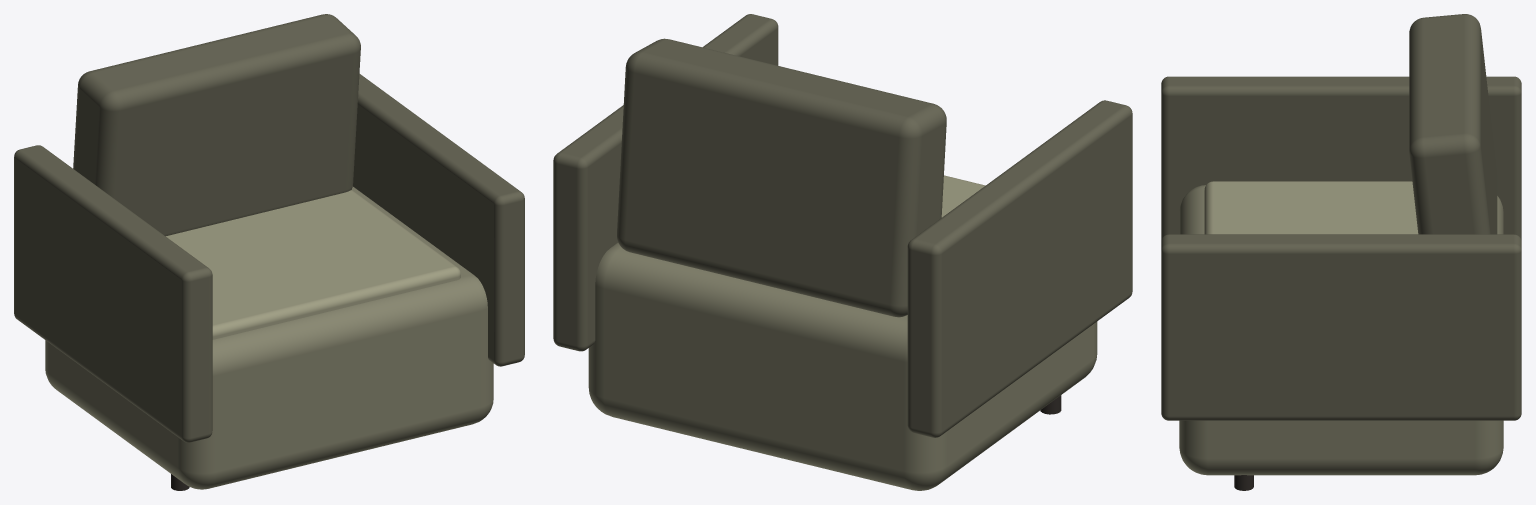
Rendered from mr-kleo.glb.
The picture shows the model from 3 angles, left to right: view 1: azimuth 30°, elevation 25°; view 2: azimuth 150°, elevation 25°; view 3: azimuth 270°, elevation 25°; orthographic projection. The views are drawn at different scales.
Parts seen in each view (by area): view 1: seat-base, back-cushion-1, arm-left, seat-cushion-1, arm-right; view 2: back-cushion-1, seat-base, arm-left, arm-right, seat-cushion-1; view 3: arm-right, arm-left, seat-base, back-cushion-1, seat-cushion-1.
Part boxes in pixels (box(x1,y1,x2,y2)): seat-base: box(45, 186, 493, 489); back-cushion-1: box(73, 14, 360, 236); arm-left: box(14, 145, 212, 442); seat-cushion-1: box(166, 190, 460, 339); arm-right: box(353, 73, 524, 366); back-cushion-1: box(617, 38, 946, 317); seat-base: box(588, 243, 1097, 490); arm-left: box(907, 100, 1132, 437); arm-right: box(553, 14, 778, 351); seat-cushion-1: box(941, 175, 985, 217); arm-right: box(1161, 234, 1521, 420); arm-left: box(1161, 76, 1521, 239); seat-base: box(1179, 185, 1503, 475); back-cushion-1: box(1409, 14, 1497, 234); seat-cushion-1: box(1204, 181, 1418, 234).
Size of the model in its own units: 0.9991 by 0.9252 by 0.88.
